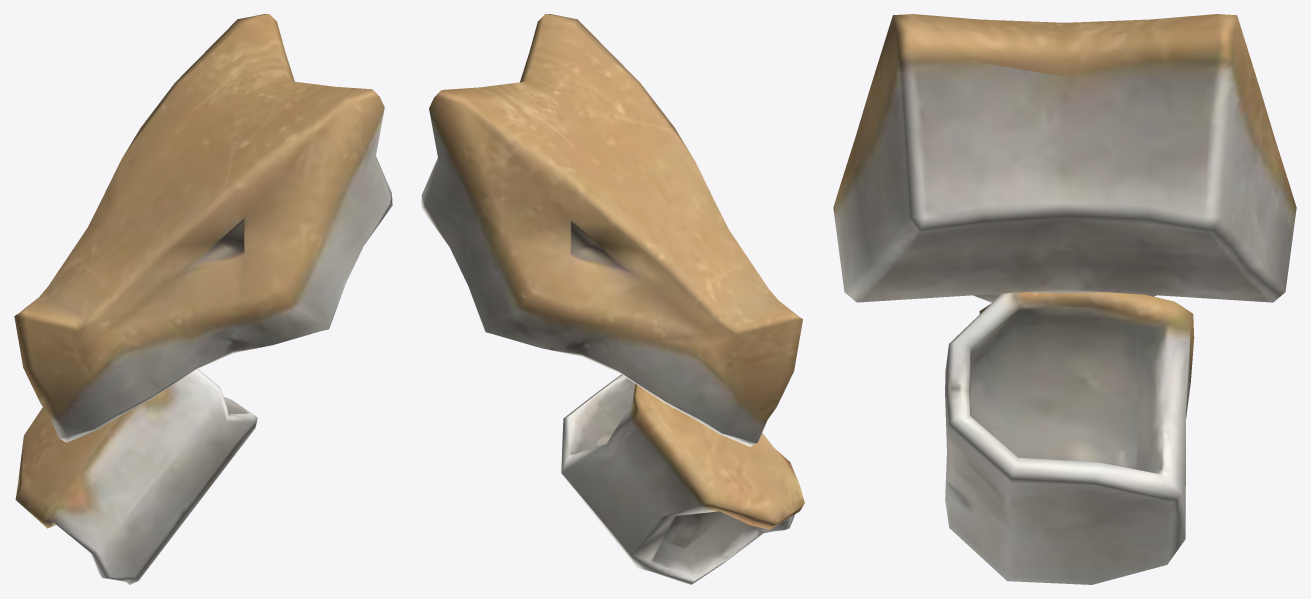
3 renders of one model, left to right at view 1: azimuth 30°, elevation 25°; view 2: azimuth 150°, elevation 25°; view 3: azimuth 270°, elevation 25°, orthographic. The views are drawn at different scales.
Visible parts, largest first — view 1: SM_Vault_Guardian_Melee_01_Parts_SM_VaultGuardian_Melee_R_Sh; view 2: SM_Vault_Guardian_Melee_01_Parts_SM_VaultGuardian_Melee_R_Sh; view 3: SM_Vault_Guardian_Melee_01_Parts_SM_VaultGuardian_Melee_R_Sh.
Boxes of the visible parts, <box> form: SM_Vault_Guardian_Melee_01_Parts_SM_VaultGuardian_Melee_R_Sh: <box>14,14,392,584</box>; SM_Vault_Guardian_Melee_01_Parts_SM_VaultGuardian_Melee_R_Sh: <box>421,14,804,584</box>; SM_Vault_Guardian_Melee_01_Parts_SM_VaultGuardian_Melee_R_Sh: <box>833,14,1296,584</box>.
Bounding box in the file's own units: 0.5766 × 0.7806 × 0.4658.
1 material, 1 textured.
